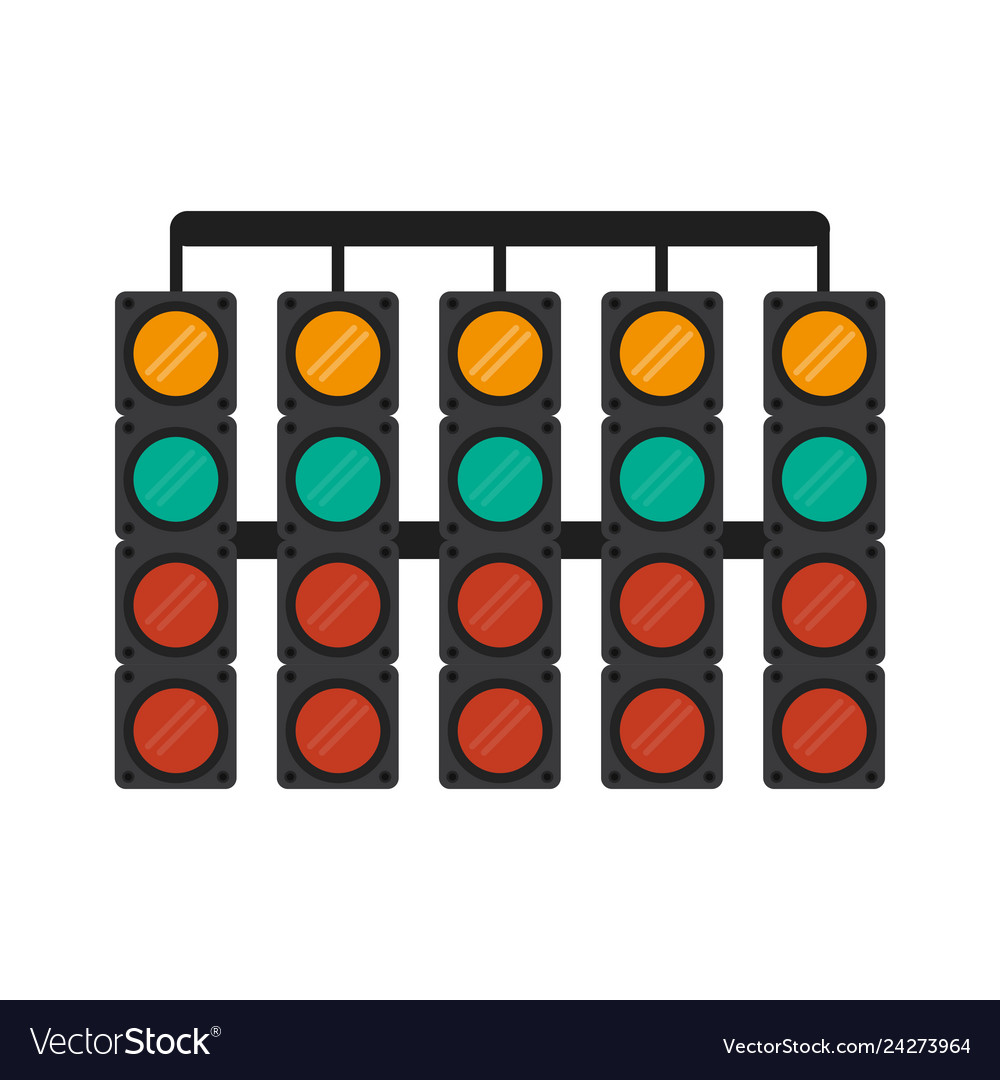trafficLight: (752, 281, 901, 807), (102, 280, 249, 797), (268, 276, 410, 804), (428, 282, 569, 806), (597, 280, 731, 804)
